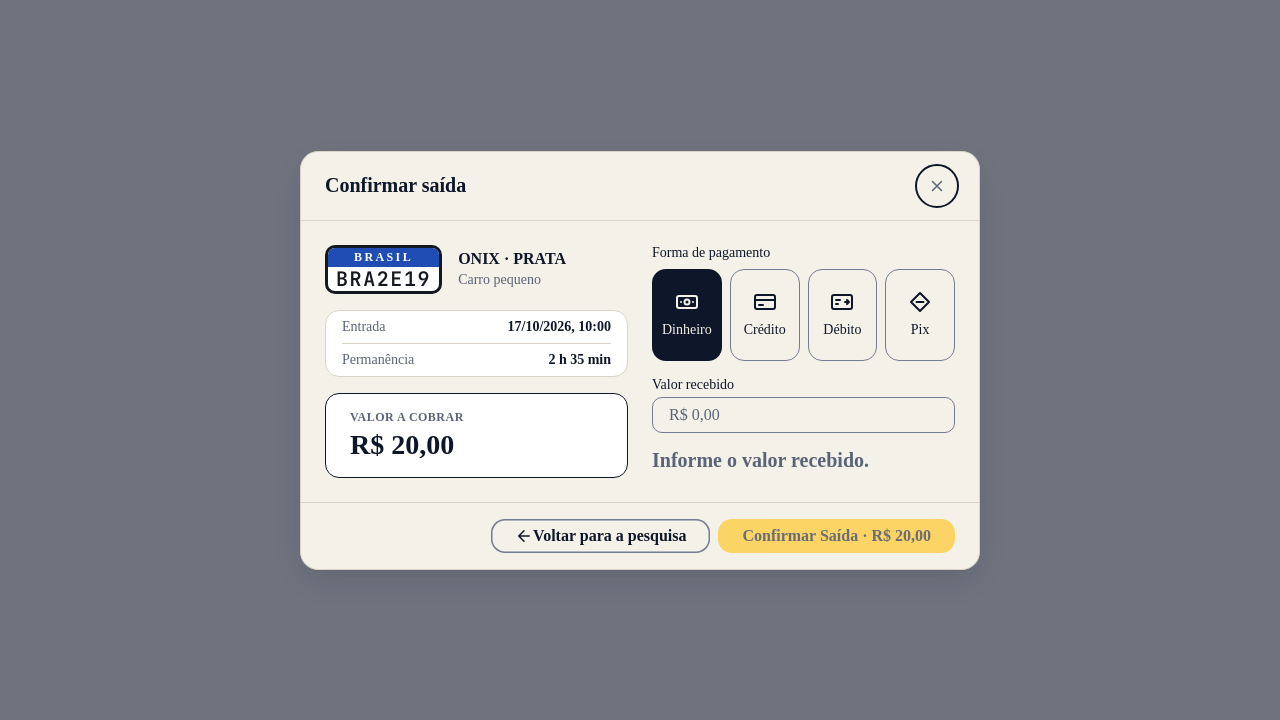
Test: SaidaVeiculoModal: aberta a partir da lista do pátio › Voltar para a pesquisa volta de verdade, sem reabrir a confirmação
Check: the text "ONIX · PRATA" is shown, box [458,250,566,268]
Click the button "Voltar para a pesquisa" at [601, 536], box [491,518,710,552]
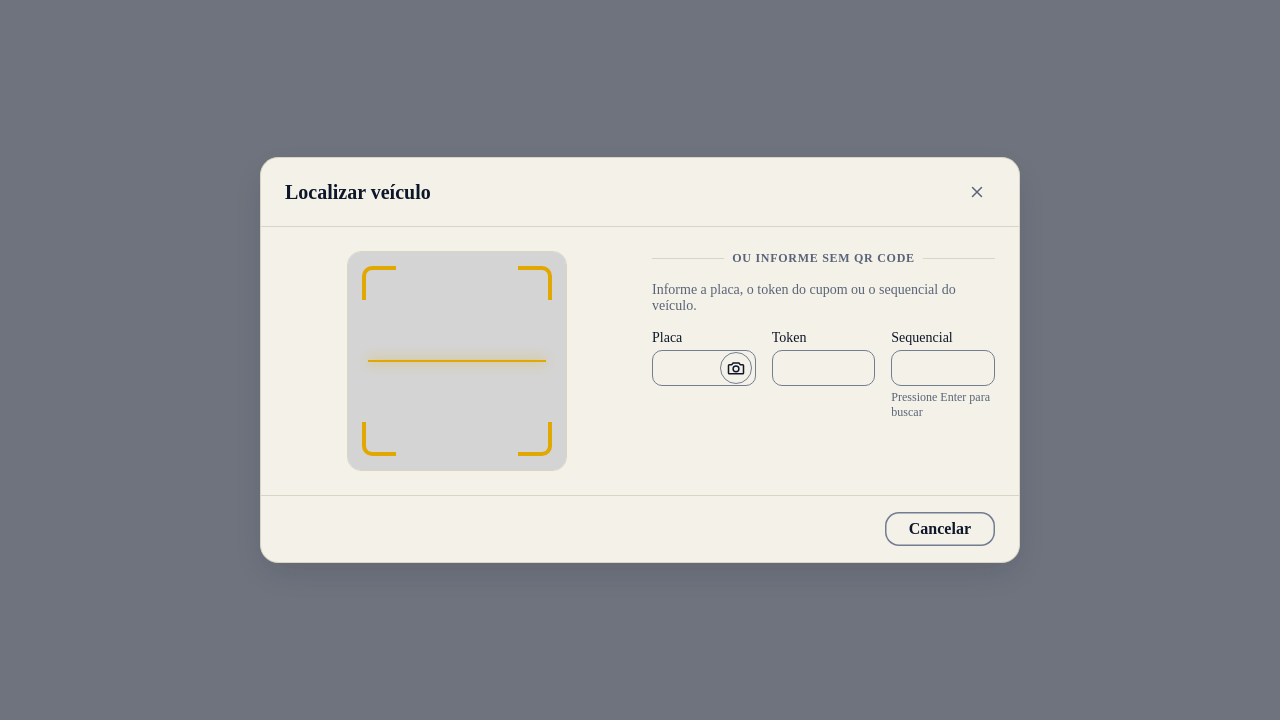
Check: the dialog "Localizar veículo" is shown, box [260,157,1020,563]
Check: the field labelled "Placa" is empty, box [652,350,756,386]
